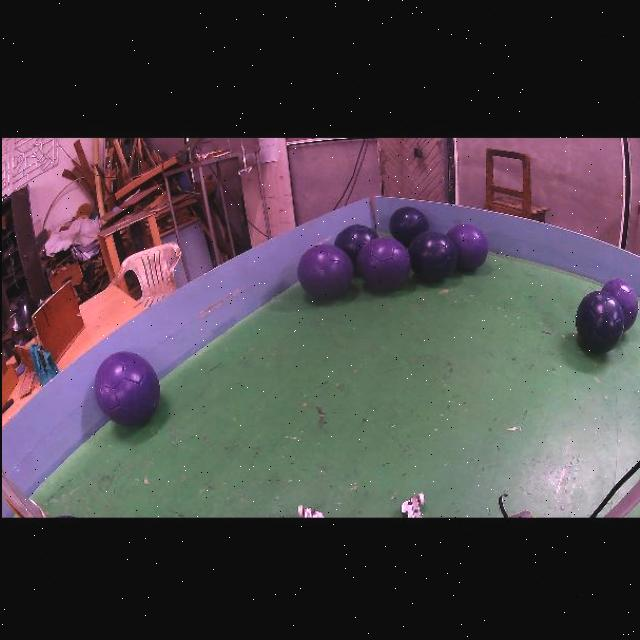B: (574, 289, 624, 351), (408, 230, 457, 280), (332, 223, 377, 271), (388, 205, 427, 244)
P: (93, 350, 158, 424), (295, 243, 352, 297), (355, 235, 409, 288), (445, 222, 487, 269), (602, 277, 637, 329)
